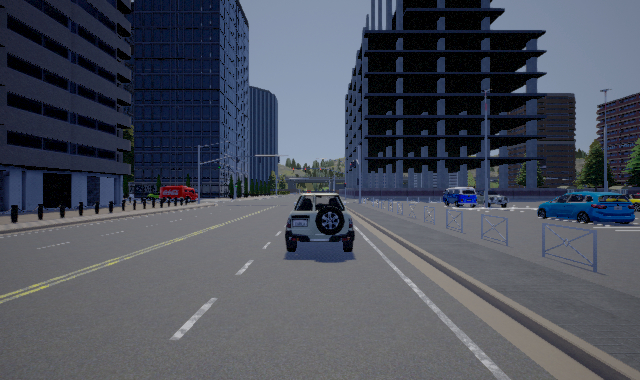vehicle: (285, 189, 355, 252), (537, 191, 640, 224), (443, 187, 479, 208), (157, 186, 198, 202), (488, 189, 509, 208)
